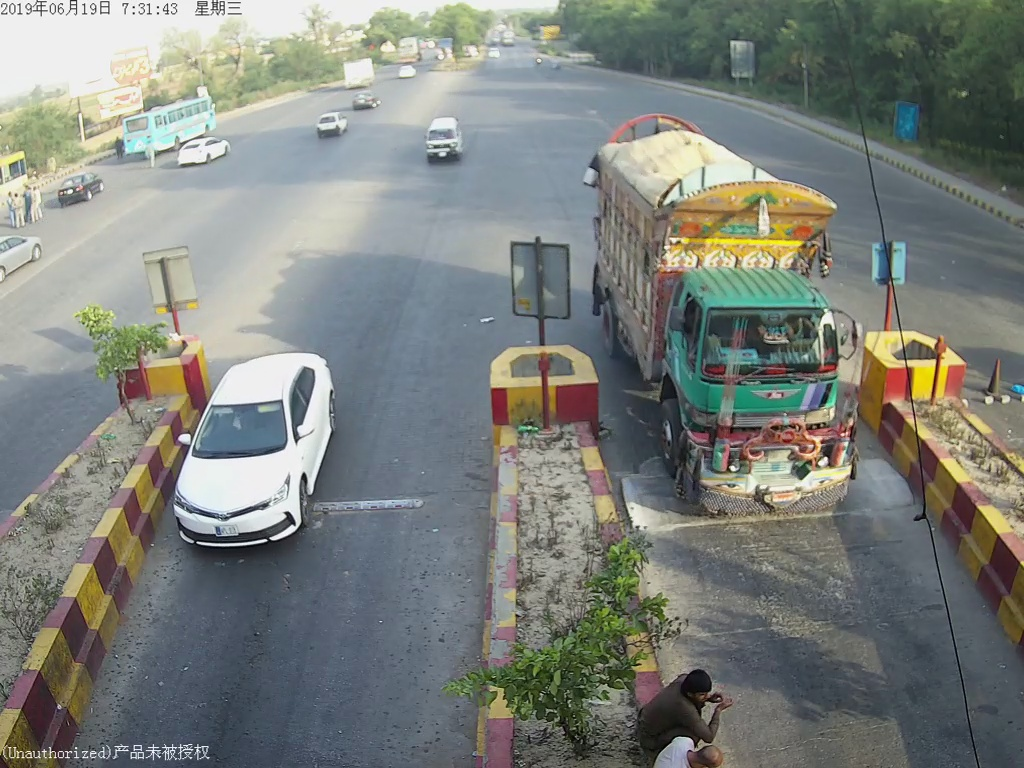Cat-1: (165, 344, 354, 546), (412, 112, 470, 166)
Cat-4: (602, 120, 859, 518)
